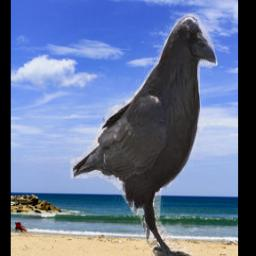Crow: (71, 15, 218, 256)
